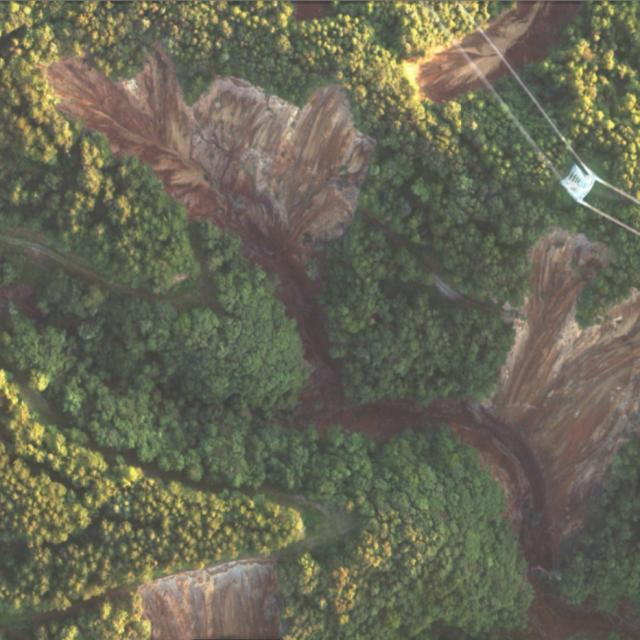landslide: (47, 46, 375, 380), (438, 229, 640, 570), (137, 560, 280, 640), (486, 1, 582, 66), (416, 45, 483, 101), (460, 30, 508, 79)
